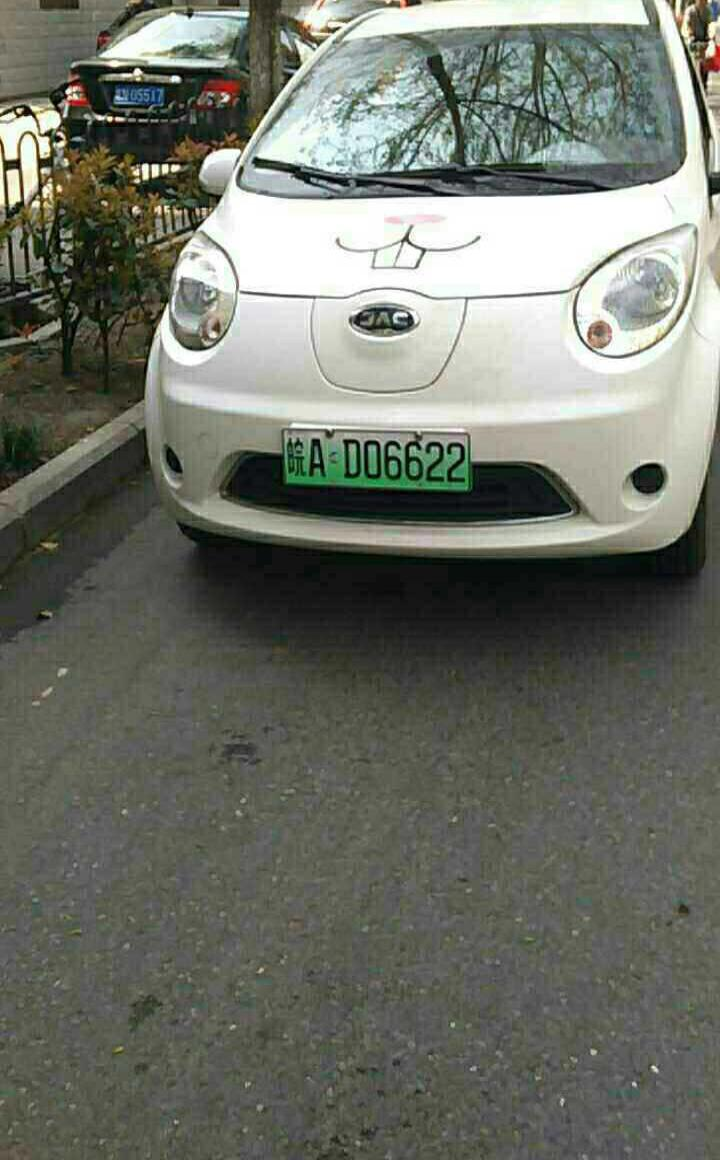car_green: (282, 423, 474, 497)
